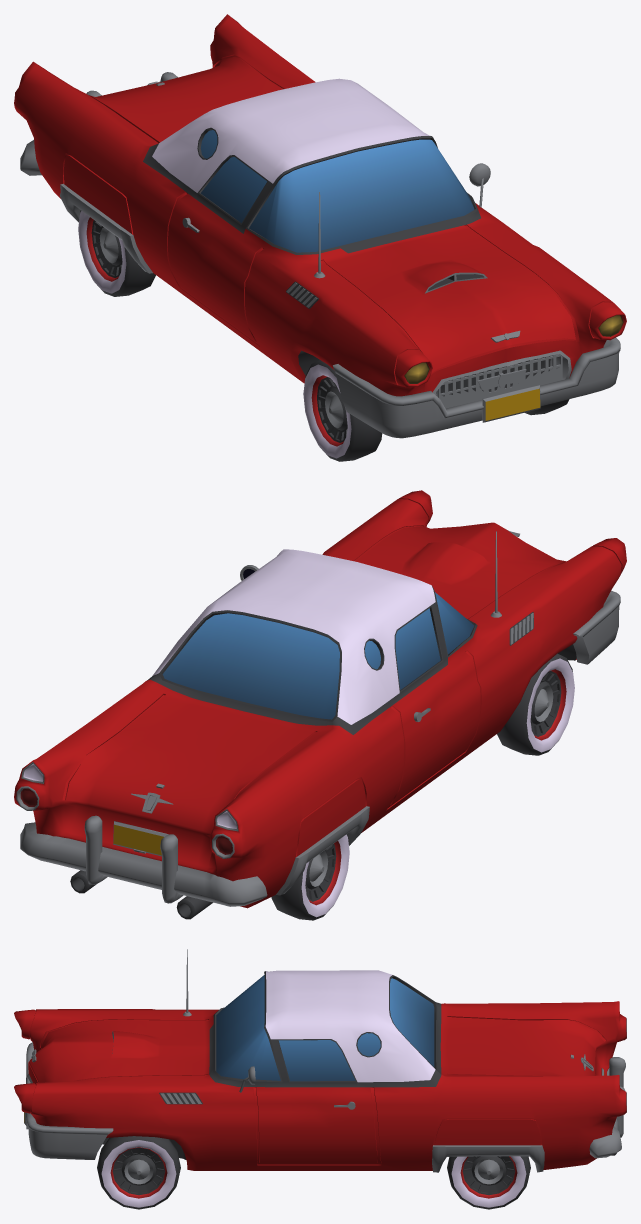
The model's file is Car_9.fbx.
3 renders of one model, top to bottom at view 1: azimuth 30°, elevation 25°; view 2: azimuth 150°, elevation 25°; view 3: azimuth 270°, elevation 25°, orthographic. The views are drawn at different scales.
Parts seen in each view (by area): view 1: 9_Car_BaseBody, 9_Car_Glass, 9_Car_FrontRight, 9_Car_BackRight; view 2: 9_Car_BaseBody, 9_Car_Glass, 9_Car_FrontRight, 9_Car_BackRight; view 3: 9_Car_BaseBody, 9_Car_Glass, 9_Car_FrontLeft, 9_Car_BackLeft.
Boxes of the visible parts, x1,y1,x2,y2 form: 9_Car_BaseBody: (14, 14, 626, 438); 9_Car_Glass: (200, 130, 474, 252); 9_Car_FrontRight: (303, 360, 382, 461); 9_Car_BackRight: (78, 210, 155, 296); 9_Car_BaseBody: (14, 490, 626, 919); 9_Car_Glass: (162, 592, 474, 719); 9_Car_FrontRight: (497, 653, 574, 755); 9_Car_BackRight: (271, 834, 349, 920); 9_Car_BaseBody: (14, 949, 626, 1172); 9_Car_Glass: (216, 975, 434, 1081); 9_Car_FrontLeft: (97, 1136, 180, 1209); 9_Car_BackLeft: (447, 1156, 530, 1209).
Size of the model in its own units: 250 by 231 by 689.
